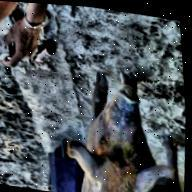boar: (49, 57, 179, 192)
